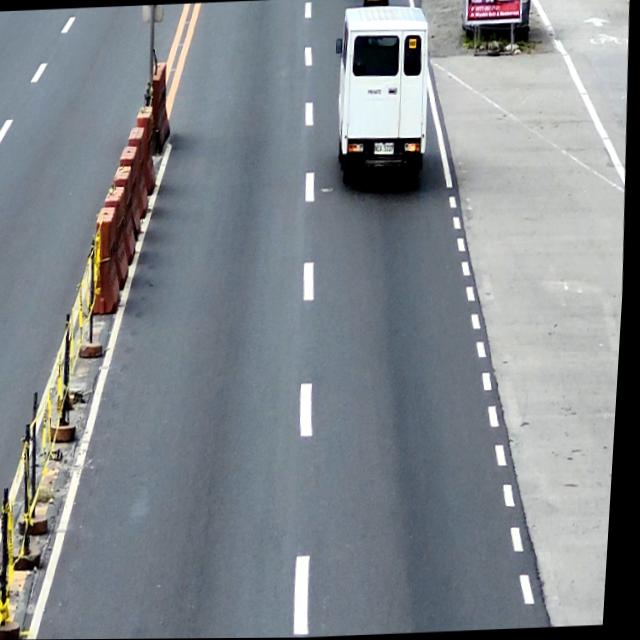Car: (328, 2, 436, 192)
License-Plate: (375, 142, 395, 156)
